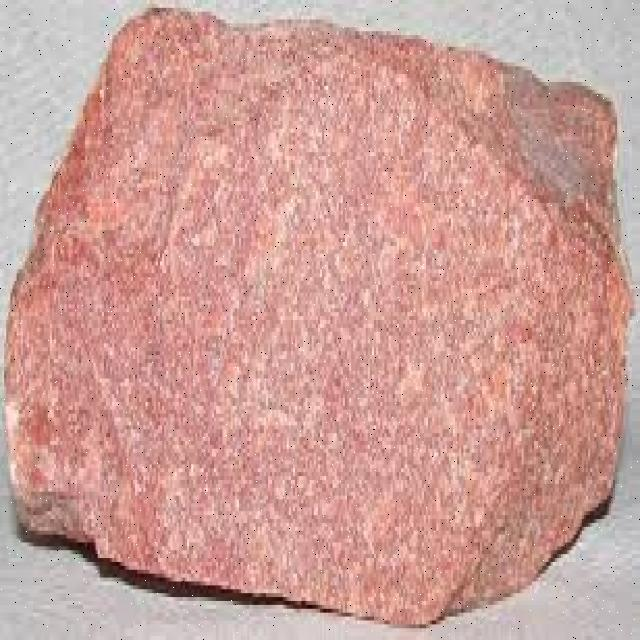Metamorphic: (12, 4, 624, 613)
